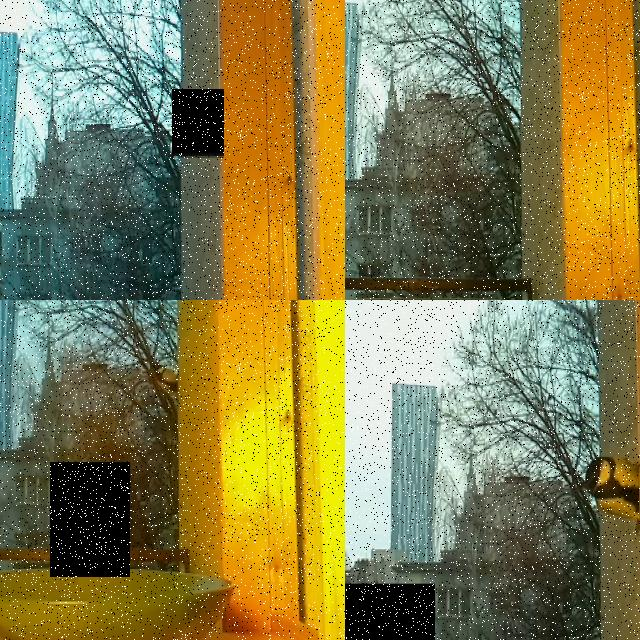Bogatka: (583, 451, 640, 539)
Modraszka: (50, 462, 130, 577), (172, 90, 224, 158)
Wrobel: (345, 583, 435, 640)
